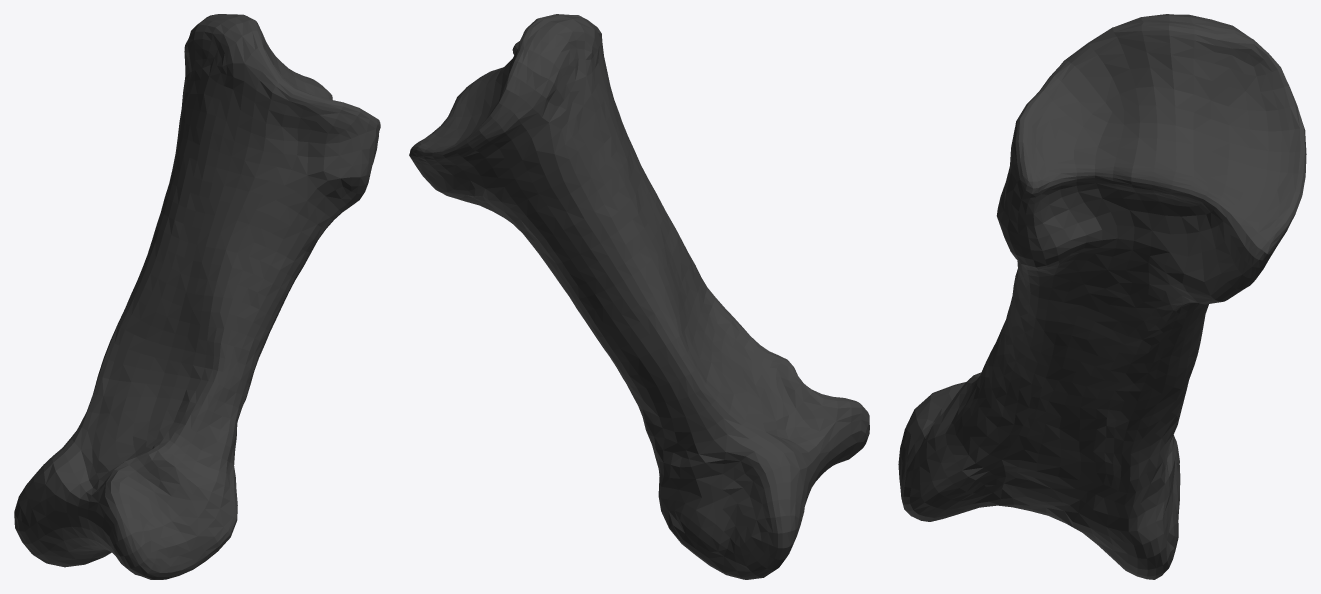
The model's file is middle_phalanx_IV_L.glb.
3 views of the same model, side by side, from view 1: azimuth 30°, elevation 25°; view 2: azimuth 150°, elevation 25°; view 3: azimuth 270°, elevation 25° (orthographic). The views are drawn at different scales.
Parts seen in each view (by area): view 1: middle_phalanx_IV_L; view 2: middle_phalanx_IV_L; view 3: middle_phalanx_IV_L.
Part boxes in pixels (bbox=[...]): middle_phalanx_IV_L: bbox=[14, 14, 380, 579]; middle_phalanx_IV_L: bbox=[409, 14, 869, 579]; middle_phalanx_IV_L: bbox=[898, 14, 1306, 579].
Size of the model in its own units: 0.021 by 0.03 by 0.0167.
Materials: 1 (1 with a texture image).
